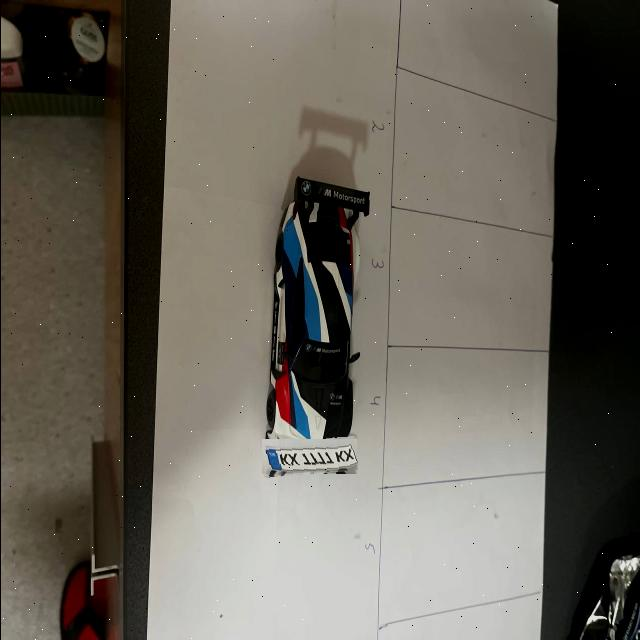KX 7777 KX: (263, 443, 356, 478)
